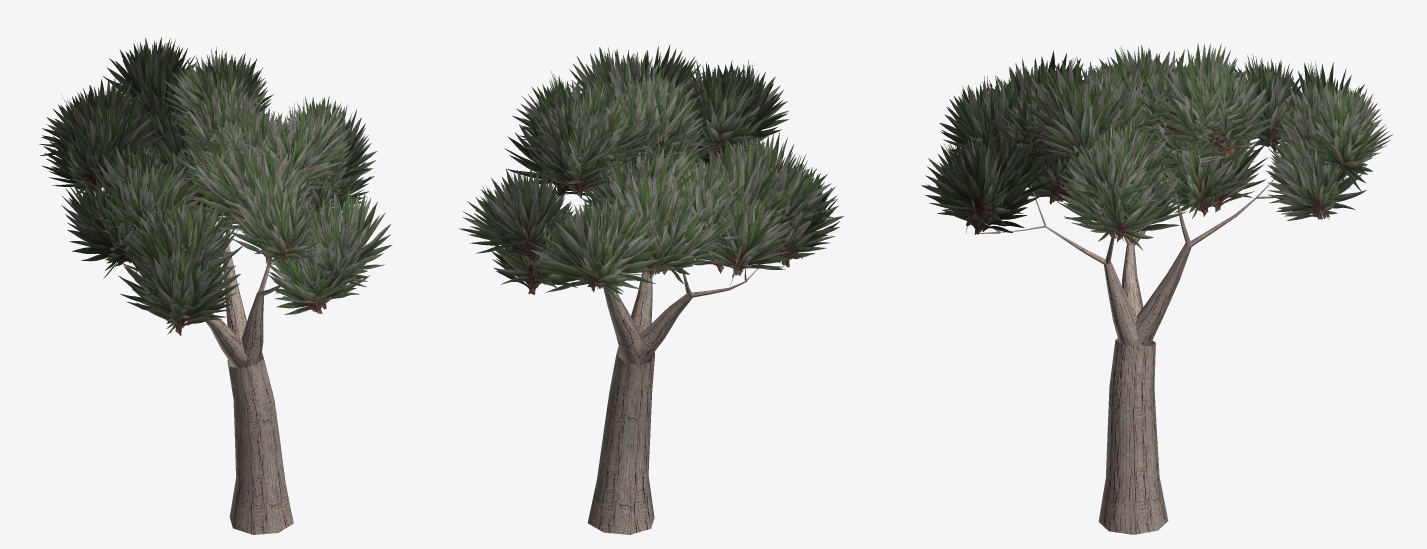
Rendered from nature-red-dragonblood-tree_v3.glb.
3 renders of one model, left to right at view 1: azimuth 30°, elevation 25°; view 2: azimuth 150°, elevation 25°; view 3: azimuth 270°, elevation 25°, orthographic. The views are drawn at different scales.
Parts seen in each view (by area): view 1: nature-red-dragonblood-tree; view 2: nature-red-dragonblood-tree; view 3: nature-red-dragonblood-tree.
Boxes of the visible parts, box(x1,y1,x2,y2) form: nature-red-dragonblood-tree: box(39, 37, 392, 534); nature-red-dragonblood-tree: box(458, 44, 843, 534); nature-red-dragonblood-tree: box(921, 43, 1393, 534).
Bounding box in the file's own units: 5.52 × 7.77 × 7.43.
2 materials, 2 textured.
